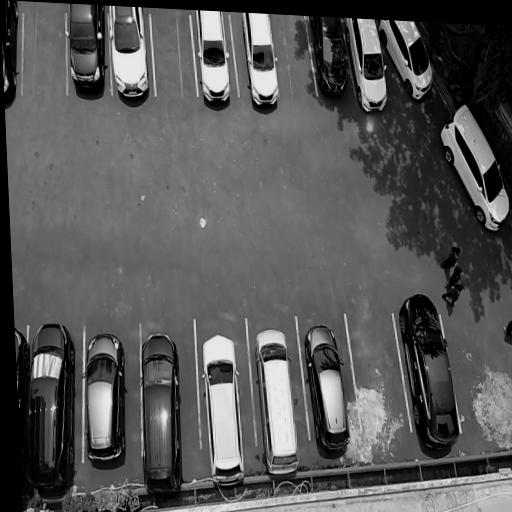Car: (19, 311, 81, 505), (129, 328, 190, 512), (398, 283, 461, 456), (436, 103, 512, 243), (251, 320, 301, 485), (79, 324, 130, 484), (198, 325, 247, 491), (307, 314, 351, 453), (384, 20, 435, 122), (63, 4, 111, 109), (239, 12, 281, 121), (348, 18, 389, 127), (107, 6, 150, 107), (194, 10, 235, 112), (311, 16, 351, 110)
